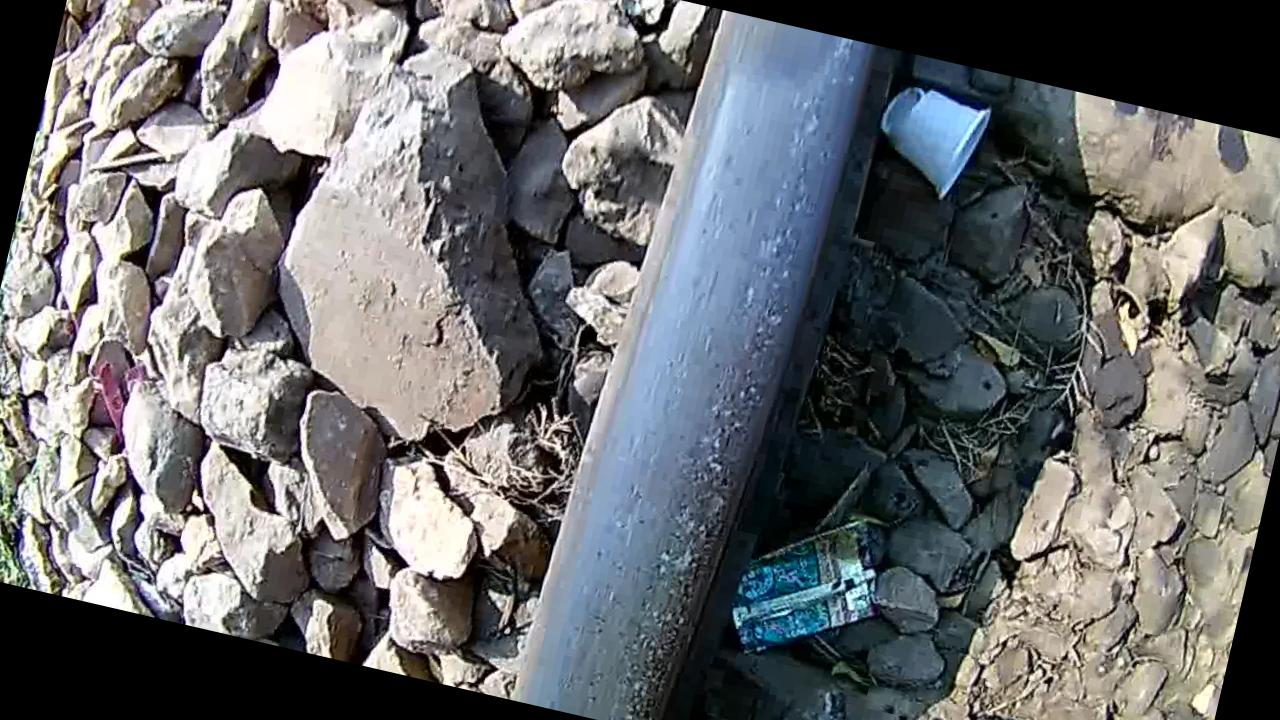bolt_missing: (644, 2, 868, 243)
